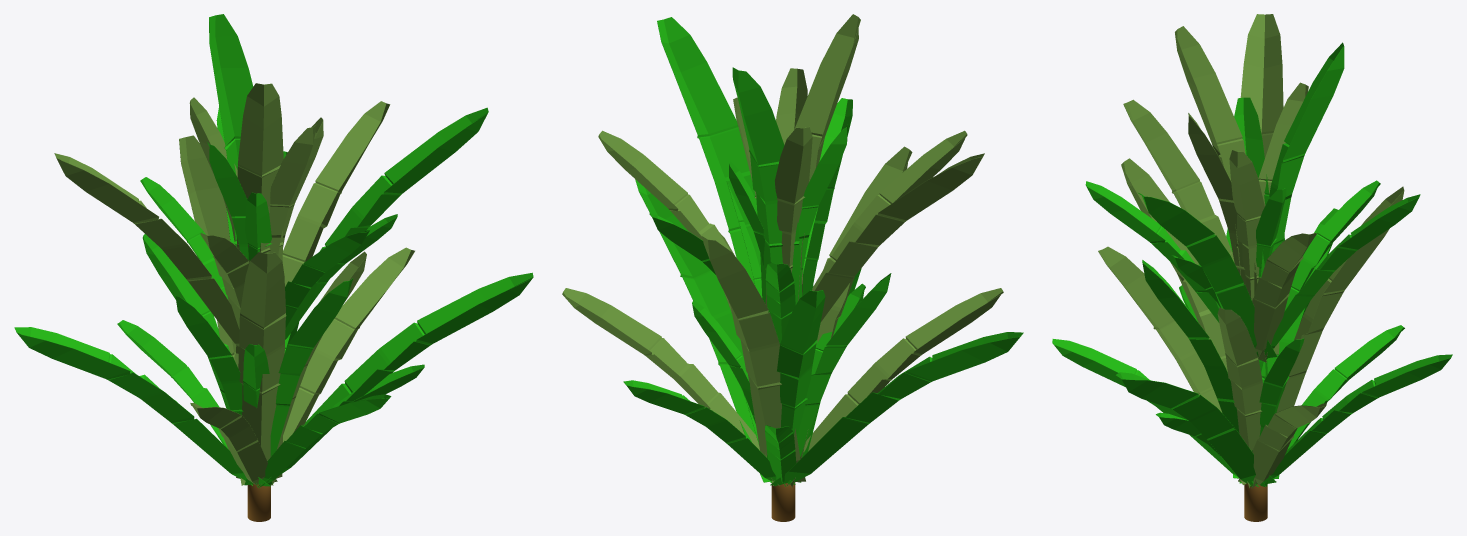
The model's file is buisson2 1.fbx.
The picture shows the model from 3 angles, left to right: view 1: azimuth 30°, elevation 25°; view 2: azimuth 150°, elevation 25°; view 3: azimuth 270°, elevation 25°; orthographic projection. The views are drawn at different scales.
Visible parts, largest first — view 1: Cylinder; view 2: Cylinder; view 3: Cylinder.
Part boxes in pixels (x1=…): Cylinder: x1=14, y1=14, x2=533, y2=521; Cylinder: x1=562, y1=14, x2=1023, y2=521; Cylinder: x1=1052, y1=14, x2=1452, y2=521.
Bounding box in the file's own units: 294 × 295 × 227.
